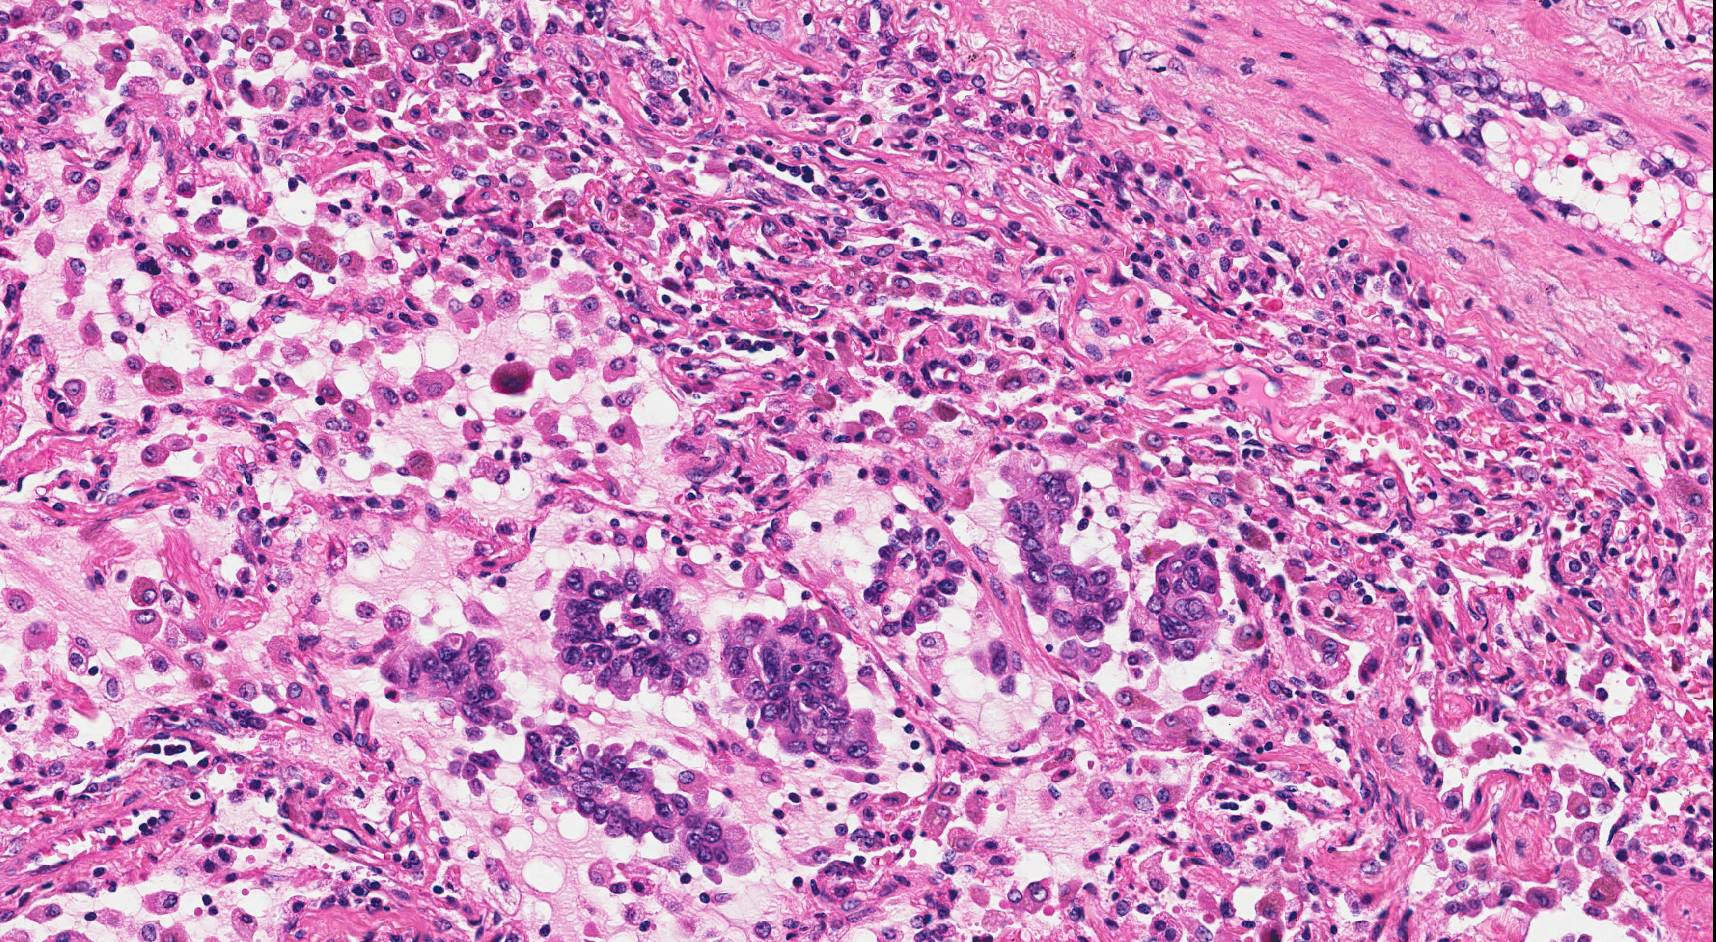stas: (521, 723, 760, 883), (991, 460, 1124, 684), (721, 601, 888, 771), (550, 556, 712, 700), (384, 633, 519, 738), (1124, 533, 1231, 663), (862, 523, 967, 648), (447, 744, 503, 798)
